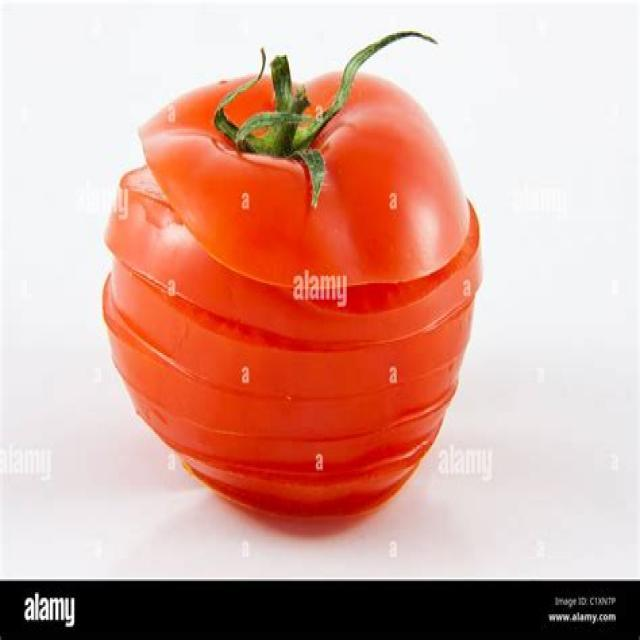Tomato: (101, 31, 486, 536)
